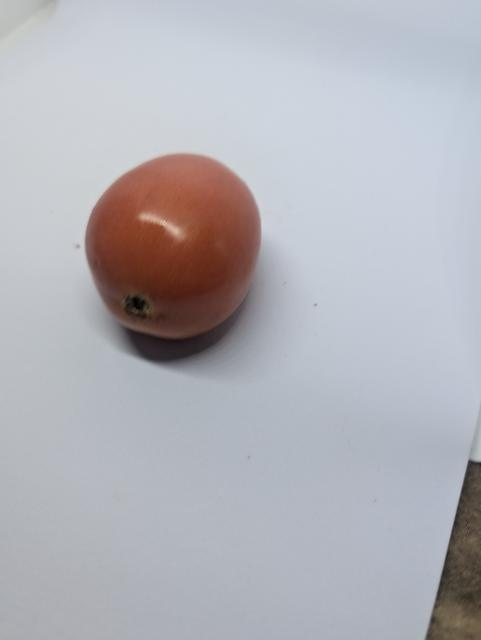red: (84, 150, 266, 343)
